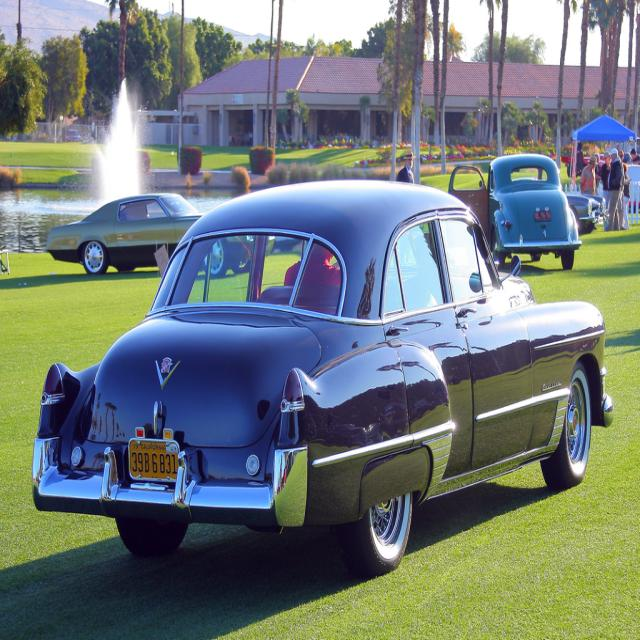car: (30, 172, 590, 577)
